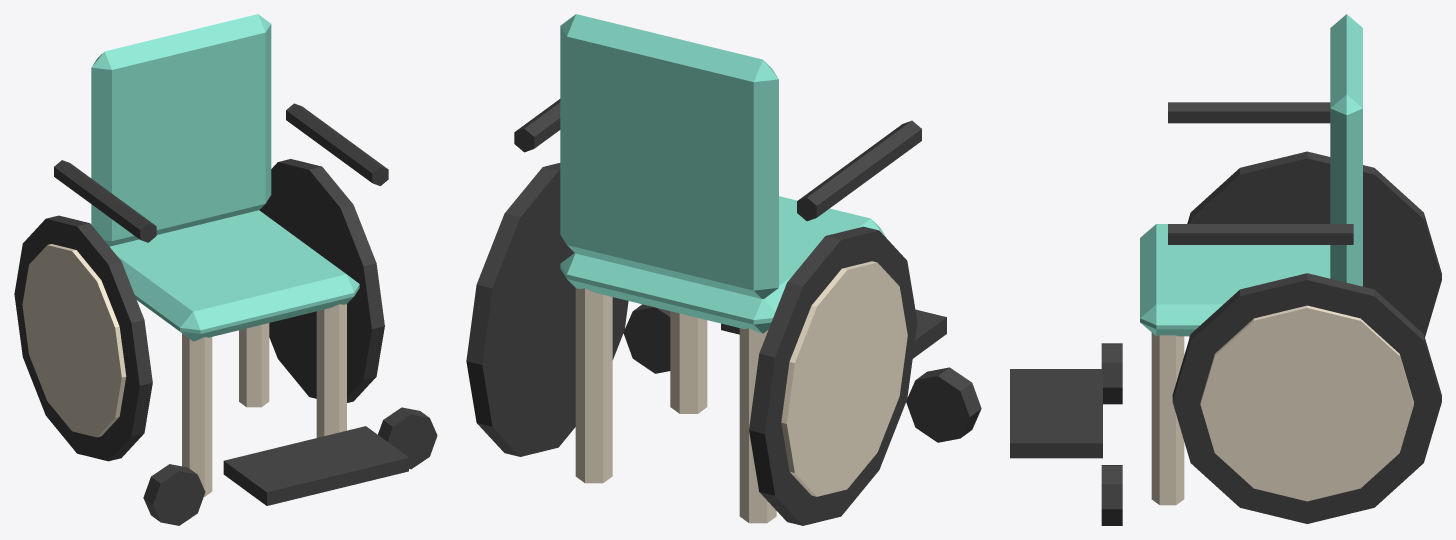
The picture shows the model from 3 angles, left to right: view 1: azimuth 30°, elevation 25°; view 2: azimuth 150°, elevation 25°; view 3: azimuth 270°, elevation 25°; orthographic projection. The views are drawn at different scales.
Visible parts, largest first — view 1: Backrest, Seat, Push rim, Rear wheel.001, Rear wheel, Footplate, Leg, Leg.002, Wheel, Armrest.001, Armrest, Leg.003 (+1 smaller); view 2: Backrest, Rear wheel.001, Push rim, Rear wheel, Seat, Leg.003, Wheel, Armrest, Leg.001, Leg.002, Wheel.001, Armrest.001 (+1 smaller); view 3: Push rim.001, Rear wheel.001, Rear wheel, Seat, Footplate, Backrest, Leg.002, Armrest.001, Armrest, Wheel.001, Wheel.
Boxes of the visible parts, box(x1,y1,x2,y2) form: Backrest: box(91, 14, 271, 246); Seat: box(110, 210, 359, 341); Push rim: box(22, 244, 126, 437); Rear wheel.001: box(259, 159, 384, 402); Rear wheel: box(14, 215, 152, 461); Footplate: box(223, 426, 408, 505); Leg: box(182, 333, 212, 496); Leg.002: box(316, 304, 346, 437); Wheel: box(143, 464, 205, 525); Armrest.001: box(286, 103, 388, 185); Armrest: box(54, 160, 156, 242); Leg.003: box(239, 323, 269, 407); Backrest: box(560, 14, 778, 298); Rear wheel.001: box(466, 163, 628, 456); Push rim: box(781, 261, 907, 496); Rear wheel: box(749, 226, 917, 525); Seat: box(560, 196, 886, 333); Leg.003: box(575, 288, 612, 483); Wheel: box(906, 367, 981, 442); Armrest: box(797, 120, 921, 221); Leg.001: box(739, 328, 776, 523); Leg.002: box(670, 311, 707, 413); Wheel.001: box(623, 304, 670, 373); Armrest.001: box(514, 99, 560, 152); Push rim.001: box(1200, 305, 1413, 501); Rear wheel.001: box(1172, 273, 1441, 523); Rear wheel: box(1187, 151, 1441, 337); Seat: box(1140, 224, 1330, 336); Footplate: box(1010, 369, 1102, 458); Backrest: box(1330, 14, 1362, 286); Leg.002: box(1151, 332, 1184, 505); Armrest.001: box(1168, 224, 1353, 244); Armrest: box(1168, 102, 1330, 123); Wheel.001: box(1101, 465, 1122, 525); Wheel: box(1101, 343, 1122, 404).
Size of the model in its own units: 76 by 97.37 by 93.
